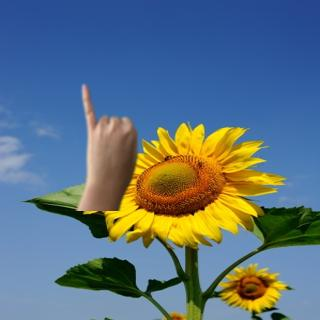FINE: (75, 81, 141, 192)
